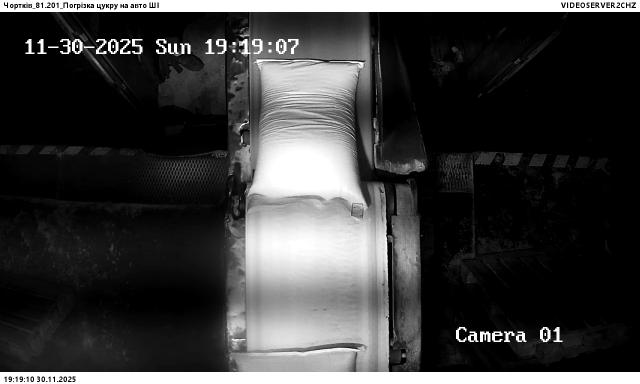bag: (249, 59, 369, 216), (230, 349, 361, 372)
